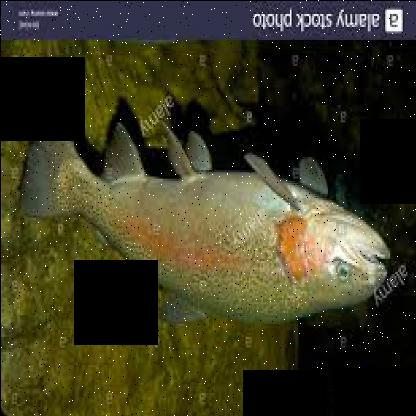fish: (24, 114, 392, 324)
